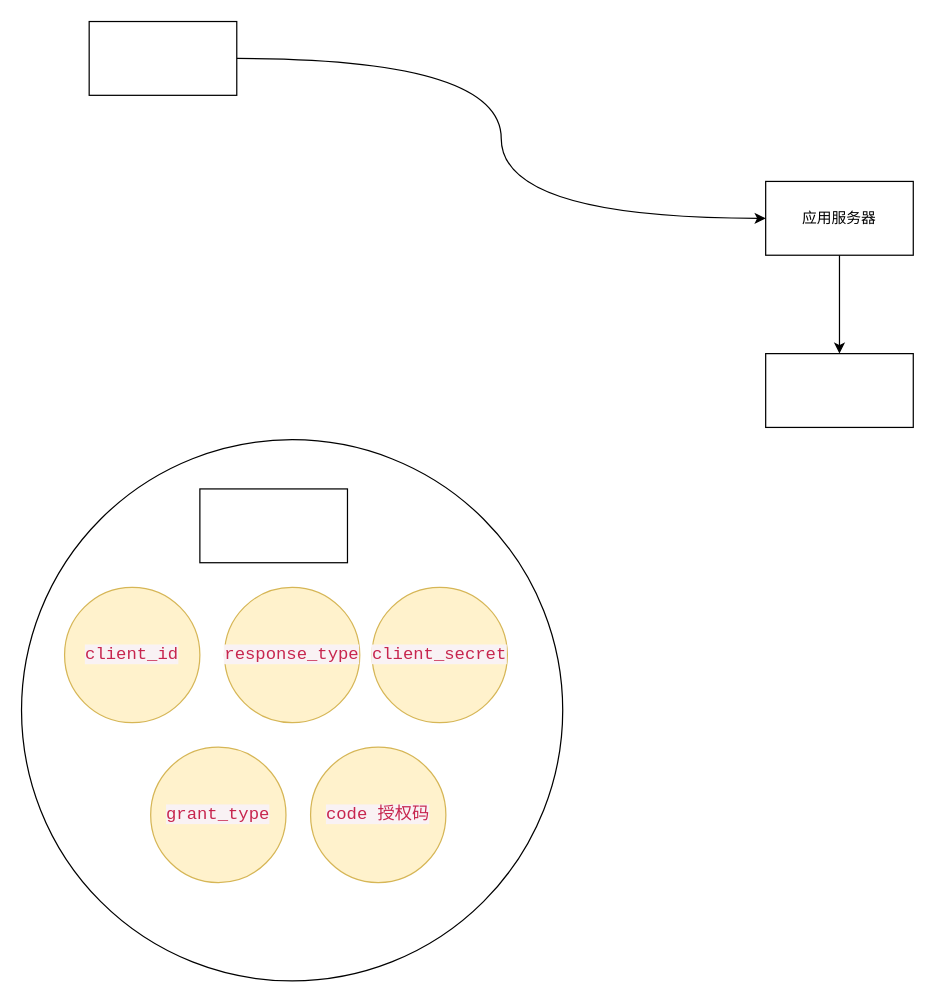
This 935x1002 diagram has some shape labels left out. Here are the shapes that lost their labels. From the top down, the box of each, then its label:
(88, 20, 237, 95): 客户端
(764, 352, 913, 427): 授权服务器
(199, 488, 347, 563): 参数
